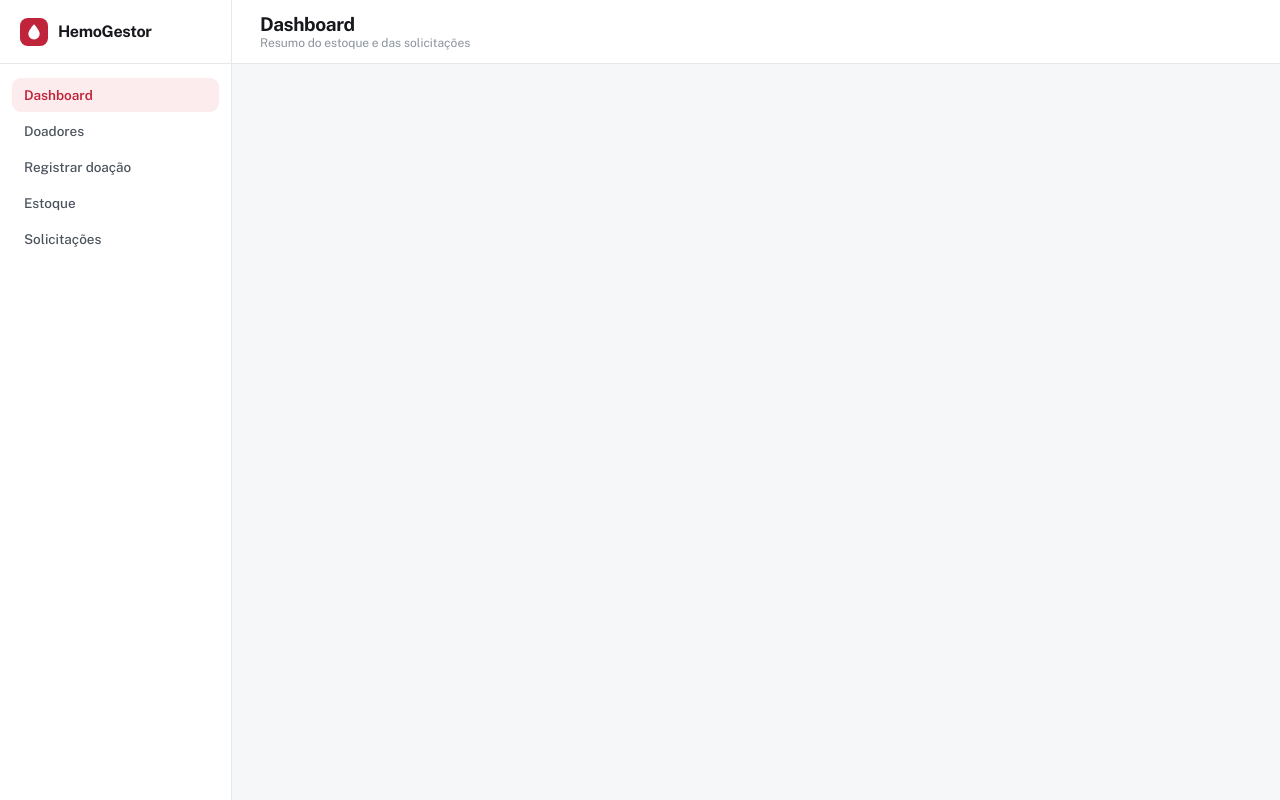
Test: App › navega para a tela de Estoque ao clicar no menu
The width and height of the screenshot is (1280, 800).
Click the link "Estoque": click(50, 203) [24,195,76,211]
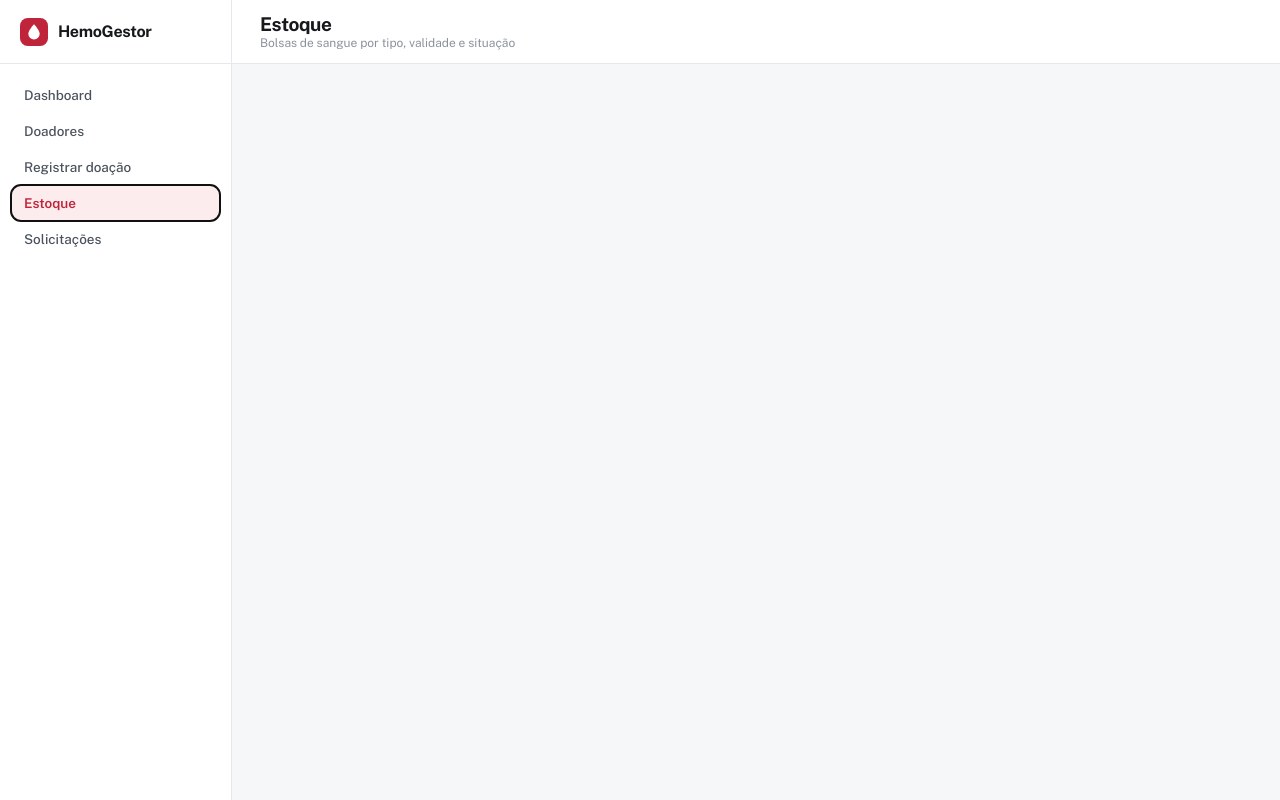
Expected: the heading "Estoque" is shown, [260,13,332,35]
